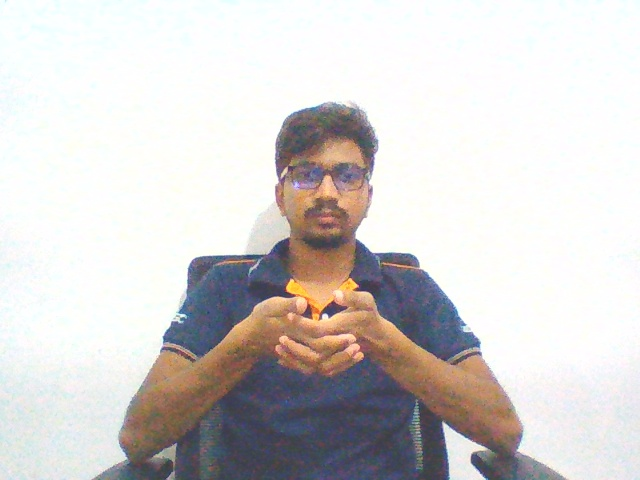mangosteen: (229, 286, 392, 383)
